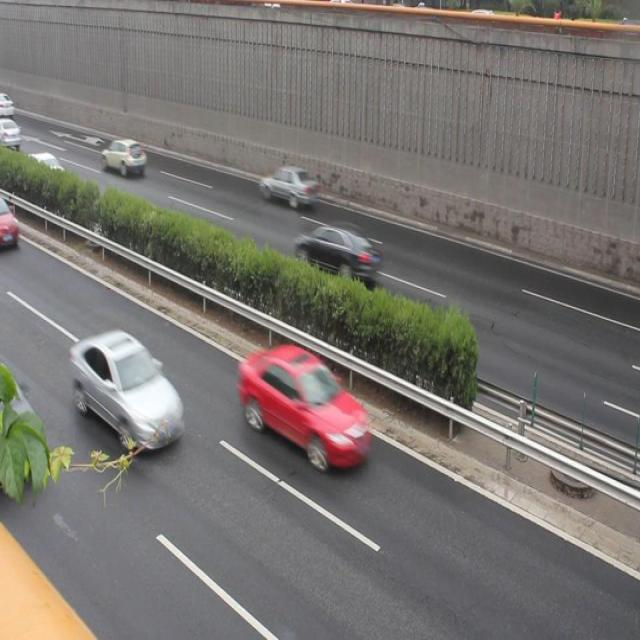car: (239, 342, 369, 464), (72, 328, 185, 448), (295, 222, 379, 282), (258, 164, 318, 212), (22, 152, 65, 189), (102, 138, 146, 174)
